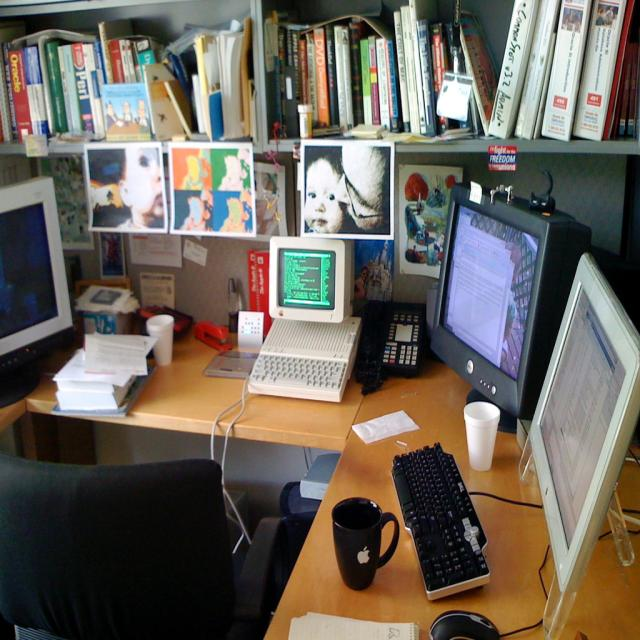Computer-mouse: (429, 608, 502, 640)
